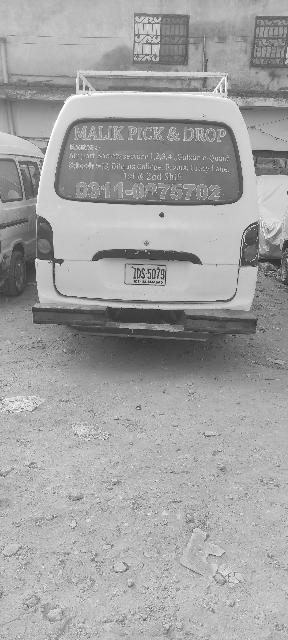Number: (132, 269, 166, 281)
